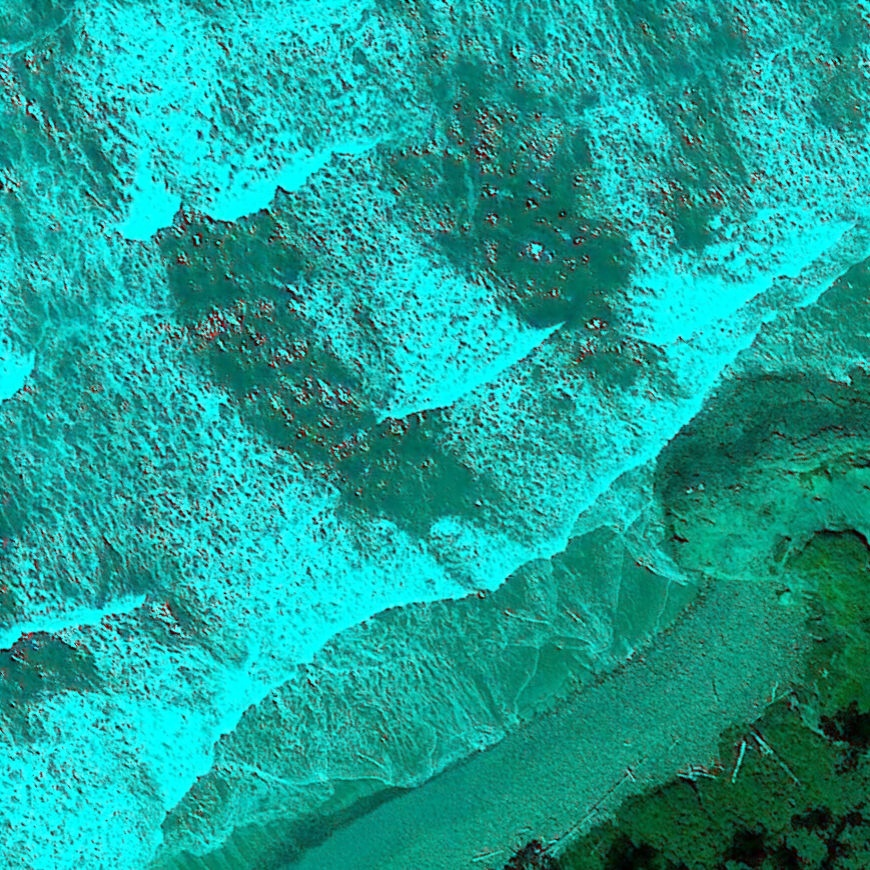rip_current: (135, 172, 528, 585)
